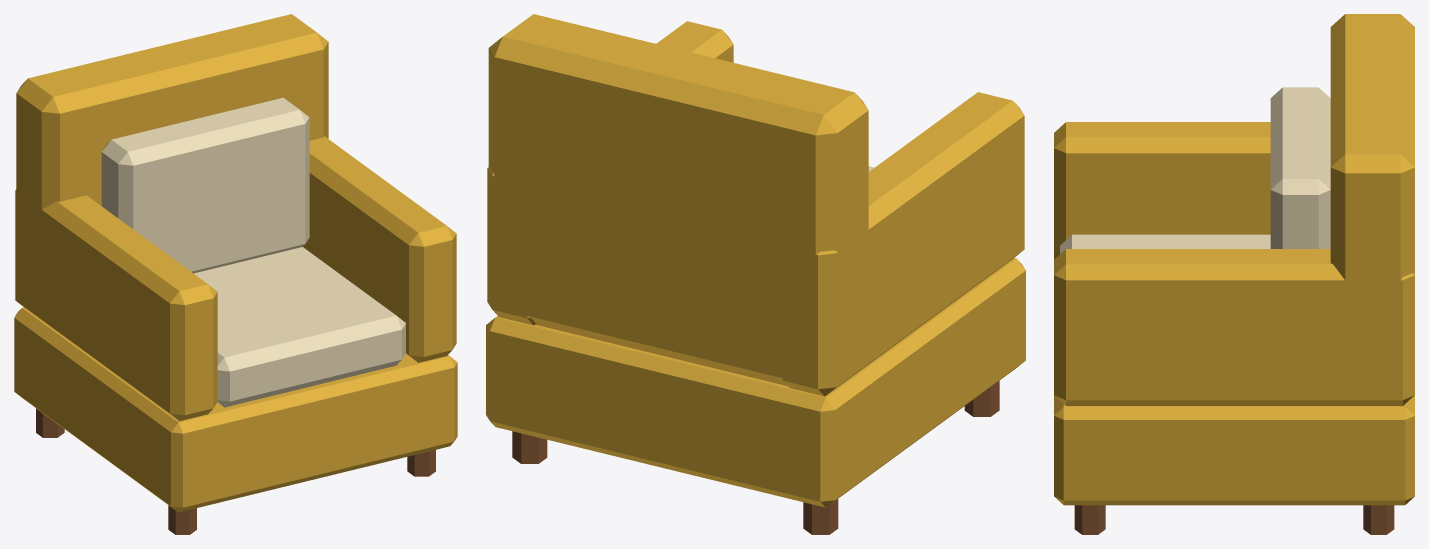
The model's file is FUR_Armchair_Frac.fbx.
The picture shows the model from 3 angles, left to right: view 1: azimuth 30°, elevation 25°; view 2: azimuth 150°, elevation 25°; view 3: azimuth 270°, elevation 25°; orthographic projection. The views are drawn at different scales.
Visible parts, largest first — view 1: FUR_Armchair_Frac_1, FUR_Armchair_Frac_2, FUR_Armchair_Frac_5, FUR_Armchair_Frac_3, FUR_Armchair_Frac_4; view 2: FUR_Armchair_Frac_1, FUR_Armchair_Frac_4, FUR_Armchair_Frac_5, FUR_Armchair_Frac_3, FUR_Armchair_Frac_2; view 3: FUR_Armchair_Frac_3, FUR_Armchair_Frac_2, FUR_Armchair_Frac_1, FUR_Armchair_Frac_4, FUR_Armchair_Frac_5.
Part boxes in pixels (x1=…): FUR_Armchair_Frac_1: x1=14, y1=60, x2=217, y2=391; FUR_Armchair_Frac_2: x1=221, y1=208, x2=457, y2=476; FUR_Armchair_Frac_5: x1=14, y1=258, x2=332, y2=534; FUR_Armchair_Frac_3: x1=196, y1=14, x2=422, y2=277; FUR_Armchair_Frac_4: x1=104, y1=35, x2=264, y2=283; FUR_Armchair_Frac_1: x1=654, y1=71, x2=1024, y2=458; FUR_Armchair_Frac_4: x1=486, y1=50, x2=766, y2=455; FUR_Armchair_Frac_5: x1=608, y1=223, x2=1025, y2=534; FUR_Armchair_Frac_3: x1=487, y1=14, x2=679, y2=295; FUR_Armchair_Frac_2: x1=512, y1=21, x2=874, y2=463; FUR_Armchair_Frac_3: x1=1118, y1=90, x2=1414, y2=485; FUR_Armchair_Frac_2: x1=1054, y1=249, x2=1394, y2=534; FUR_Armchair_Frac_1: x1=1054, y1=14, x2=1414, y2=248; FUR_Armchair_Frac_4: x1=1270, y1=52, x2=1414, y2=517; FUR_Armchair_Frac_5: x1=1054, y1=214, x2=1219, y2=259.
Size of the model in its own units: 3 by 3.5 by 3.
